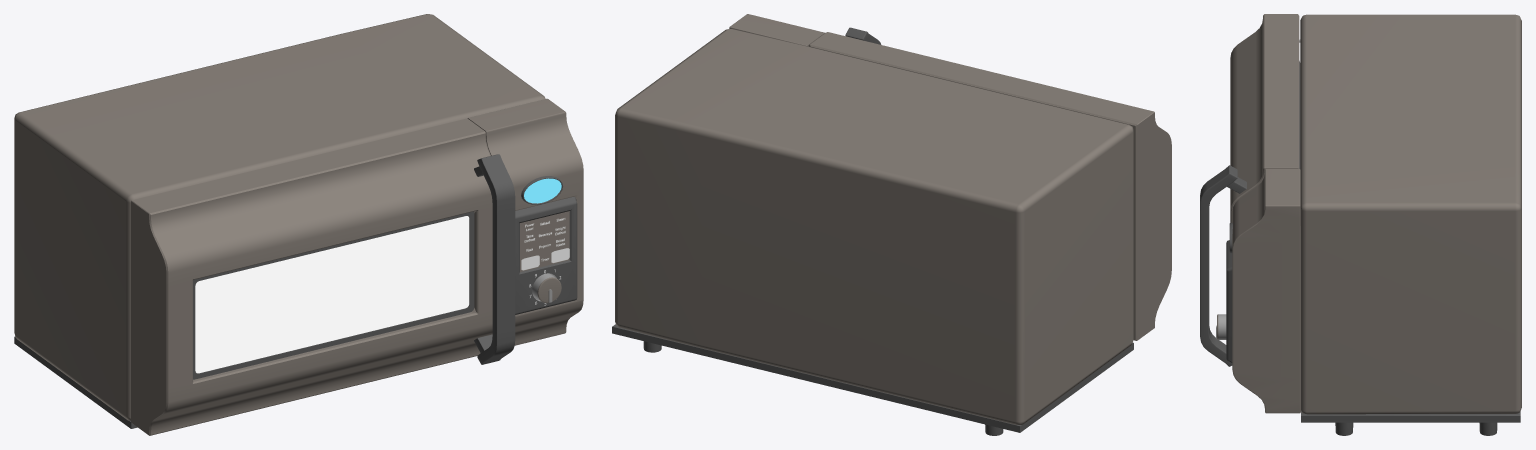
File: microwave.glb
3 views of the same model, side by side, from view 1: azimuth 30°, elevation 25°; view 2: azimuth 150°, elevation 25°; view 3: azimuth 270°, elevation 25° (orthographic). The views are drawn at different scales.
Visible parts, largest first — view 1: microwave_a1, microwave_door_a1; view 2: microwave_a1, microwave_door_a1; view 3: microwave_a1, microwave_door_a1.
Part boxes in pixels (box(x1,y1,x2,y2)): microwave_a1: box(14, 14, 583, 428); microwave_door_a1: box(131, 118, 515, 435); microwave_a1: box(612, 14, 1133, 435); microwave_door_a1: box(809, 27, 1171, 340); microwave_a1: box(1216, 14, 1521, 435); microwave_door_a1: box(1200, 14, 1300, 366).
Size of the model in its own units: 0.6062 by 0.3512 by 0.4275.
Materials: 10 (2 with a texture image).
